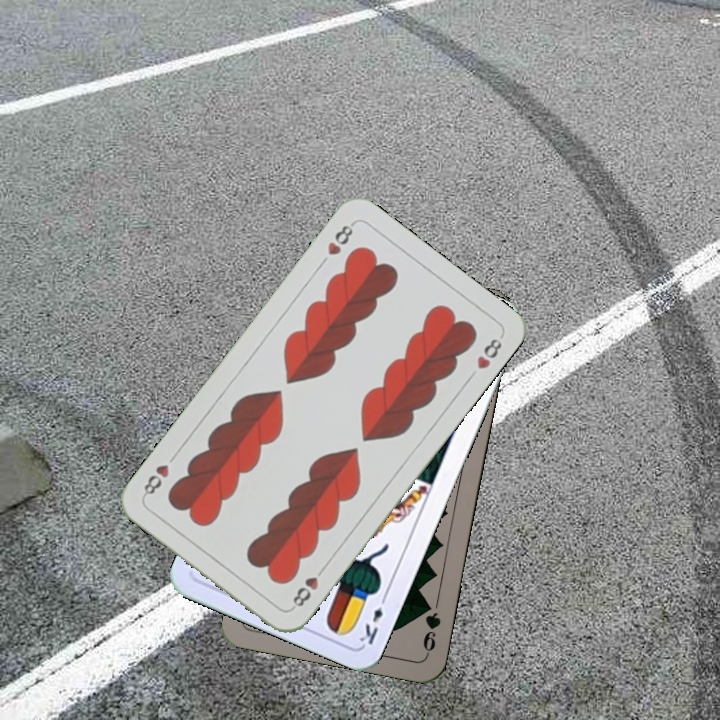EK: (355, 590, 390, 647)
G9: (419, 597, 444, 658)
H8: (287, 561, 329, 612), (323, 218, 357, 258)
